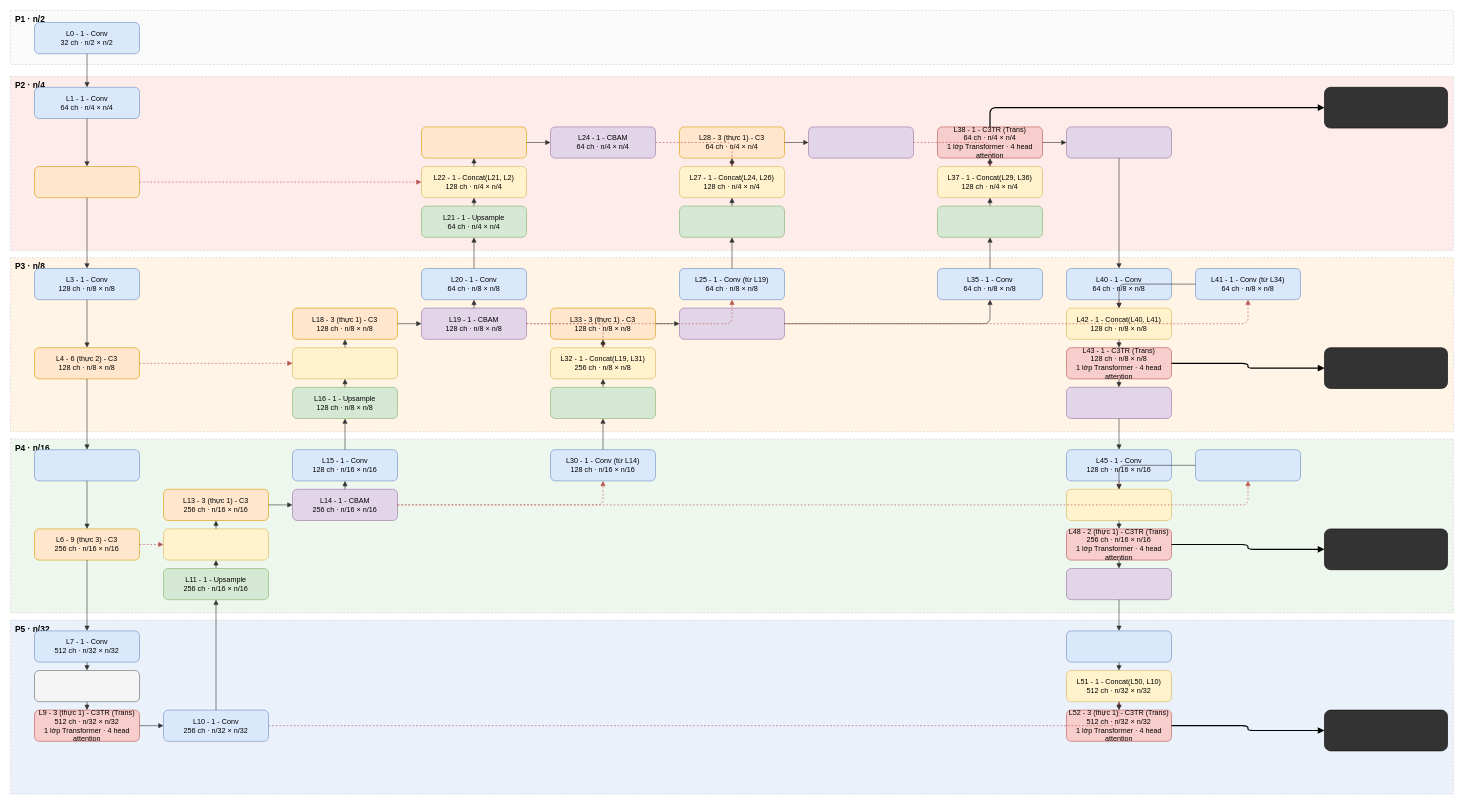
Some shapes in this 1464 by 805 pixel diagram are drawn without their labels. The shapes that lost their labels are listed below. From the top down, each one's centre as x and y in pixels, then its label:
At [1386,107]: "L53 - Detect head P2 Conv 1×1: 64 → 45 ch n/4 × n/4 · 3 anchor × (10 + 5)".
At [473,142]: "L23 - 3 (thực 1) - C3 64 ch · n/4 × n/4".
At [861,142]: "L29 - 1 - CBAM 64 ch · n/4 × n/4".
At [1119,142]: "L39 - 1 - CBAM 64 ch · n/4 × n/4".
At [87,182]: "L2 - 3 (thực 1) - C3 64 ch · n/4 × n/4".
At [731,221]: "L26 - 1 - Upsample 64 ch · n/4 × n/4".
At [989,221]: "L36 - 1 - Upsample 64 ch · n/4 × n/4".
At [731,323]: "L34 - 1 - CBAM 128 ch · n/8 × n/8".
At [345,363]: "L17 - 1 - Concat(L16, L4) 256 ch · n/8 × n/8".
At [1386,367]: "L53 - Detect head P3 Conv 1×1: 128 → 45 ch n/8 × n/8 · 3 anchor × (10 + 5)".
At [603,402]: "L31 - 1 - Upsample 128 ch · n/8 × n/8".
At [1119,402]: "L44 - 1 - CBAM 128 ch · n/8 × n/8".
At [87,465]: "L5 - 1 - Conv 256 ch · n/16 × n/16".
At [1247,465]: "L46 - 1 - Conv (từ L14) 128 ch · n/16 × n/16".
At [1119,504]: "L47 - 1 - Concat(L45, L46) 256 ch · n/16 × n/16".
At [215,544]: "L12 - 1 - Concat(L11, L6) 512 ch · n/16 × n/16".
At [1386,549]: "L53 - Detect head P4 Conv 1×1: 256 → 45 ch n/16 × n/16 · 3 anchor × (10 + 5)".
At [1119,584]: "L49 - 1 - CBAM 256 ch · n/16 × n/16".
At [1119,646]: "L50 - 1 - Conv 256 ch · n/32 × n/32".
At [87,686]: "L8 - 1 - SPPF 512 ch · n/32 × n/32".
At [1386,730]: "L53 - Detect head P5 Conv 1×1: 512 → 45 ch n/32 × n/32 · 3 anchor × (10 + 5)".
